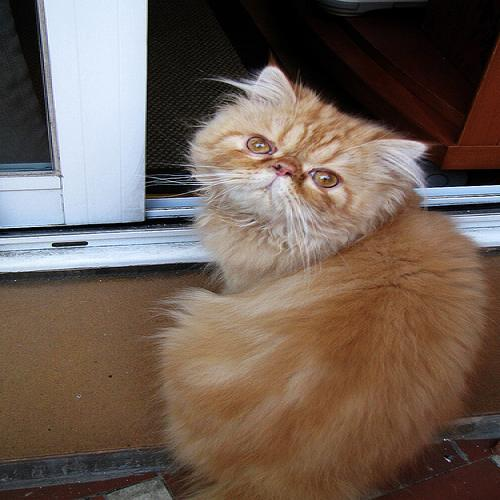persian: (176, 55, 443, 275)
